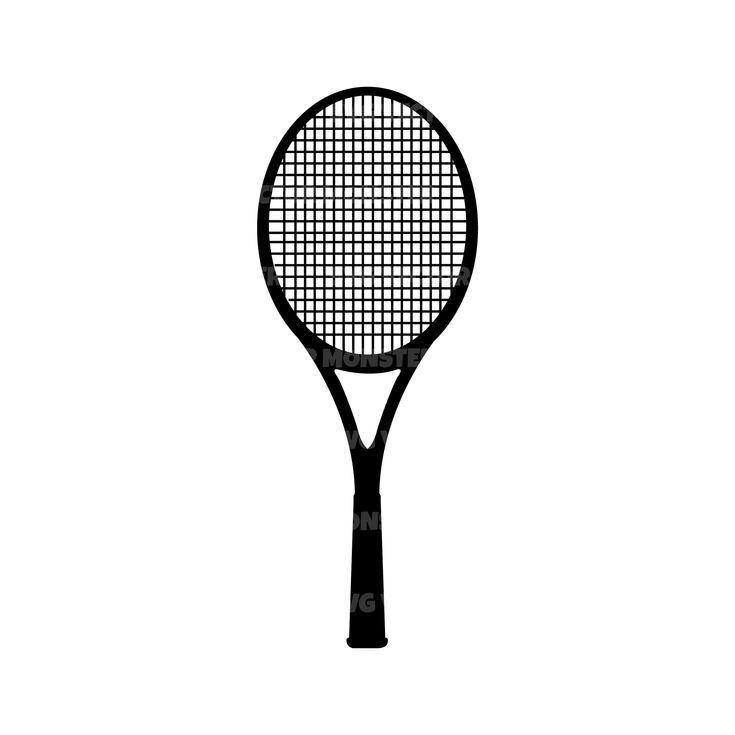Tennis-Racket: (256, 91, 477, 645)
